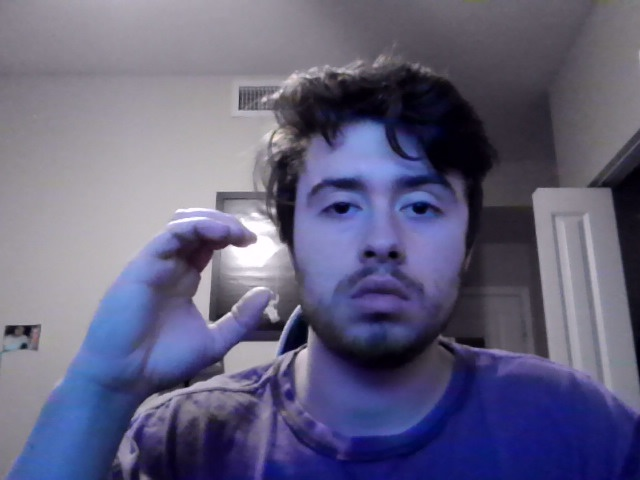c: (65, 207, 274, 400)
